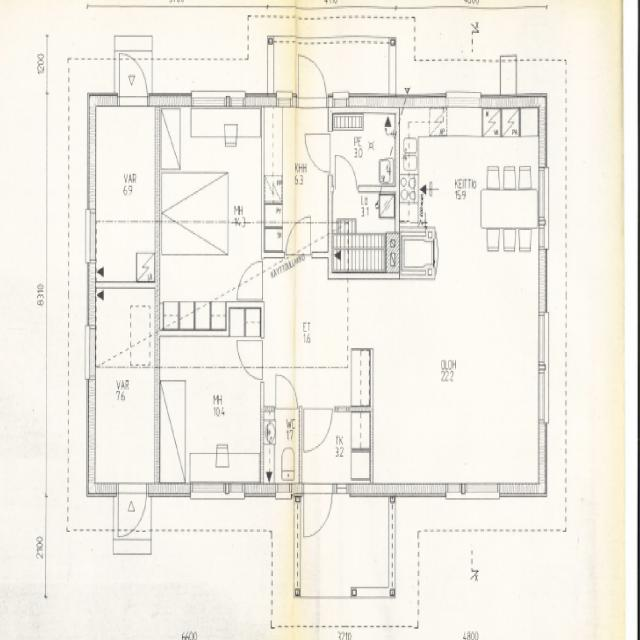door: (304, 483, 333, 538), (120, 51, 148, 107), (299, 51, 327, 107), (119, 483, 146, 537), (304, 406, 332, 455), (236, 340, 264, 380), (286, 214, 311, 257), (304, 134, 332, 172), (237, 261, 265, 298), (276, 373, 298, 411), (335, 154, 357, 192)
